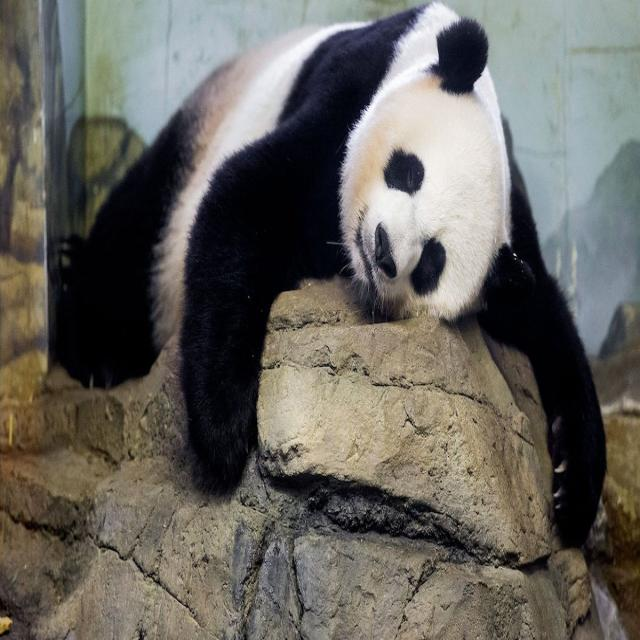Panda: (47, 1, 622, 556)
